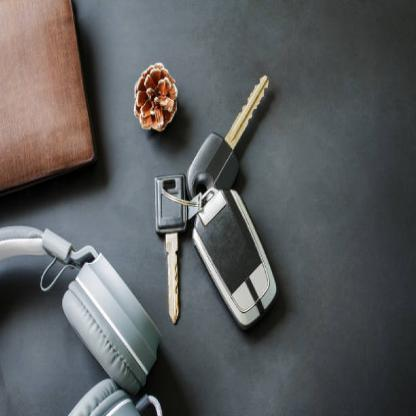keys: (184, 66, 274, 206), (150, 170, 193, 328)
